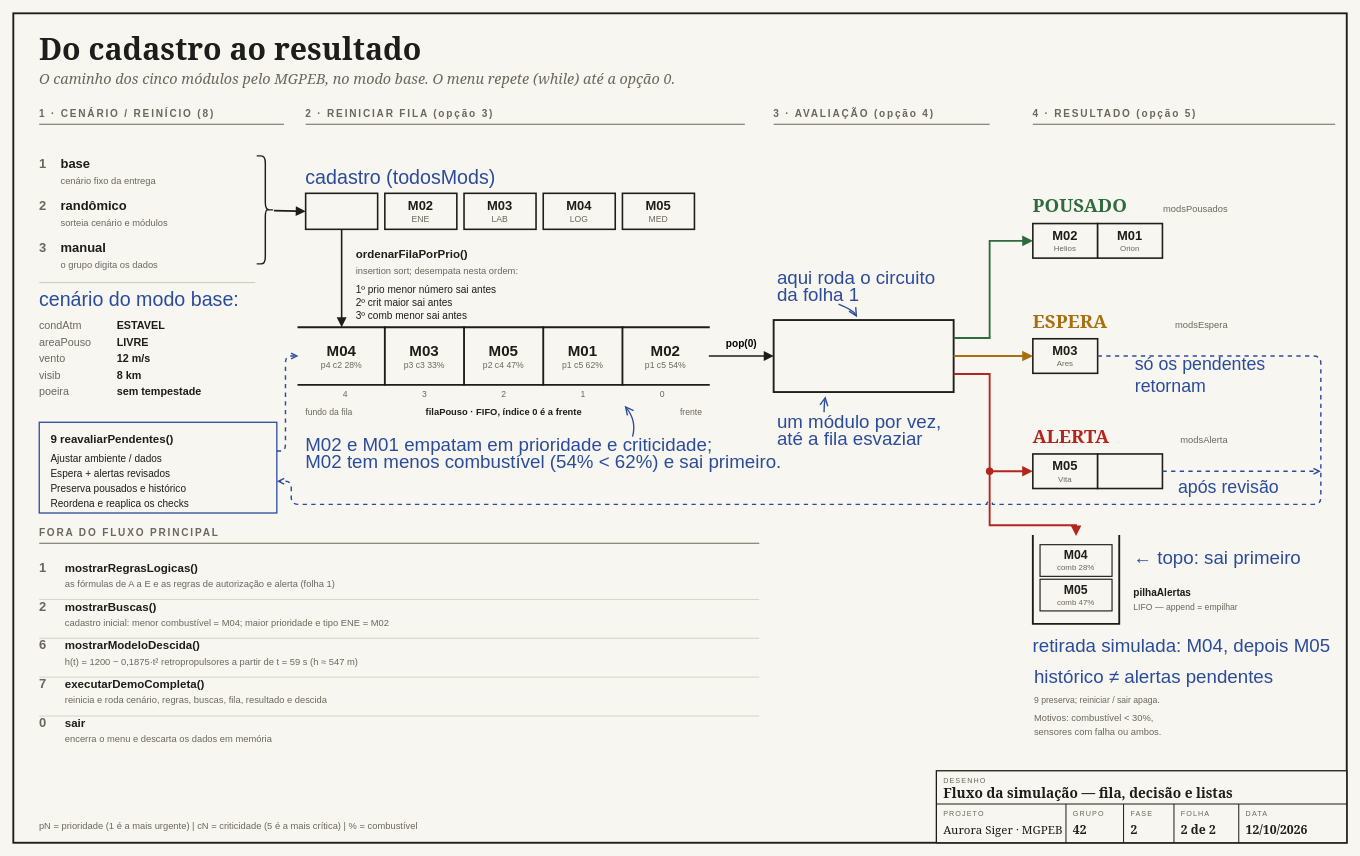
The diagram is 1360 pixels wide and 856 high, and some of its shapes have lost their labels. Here are the shapes that lost their labels. From the top down, the box of each, then its label:
(304, 192, 378, 230): M01 HAB
(772, 319, 954, 393): avaliarPouso(mod) calcularChecks → A … E
(1096, 453, 1163, 489): M04 Atlas
